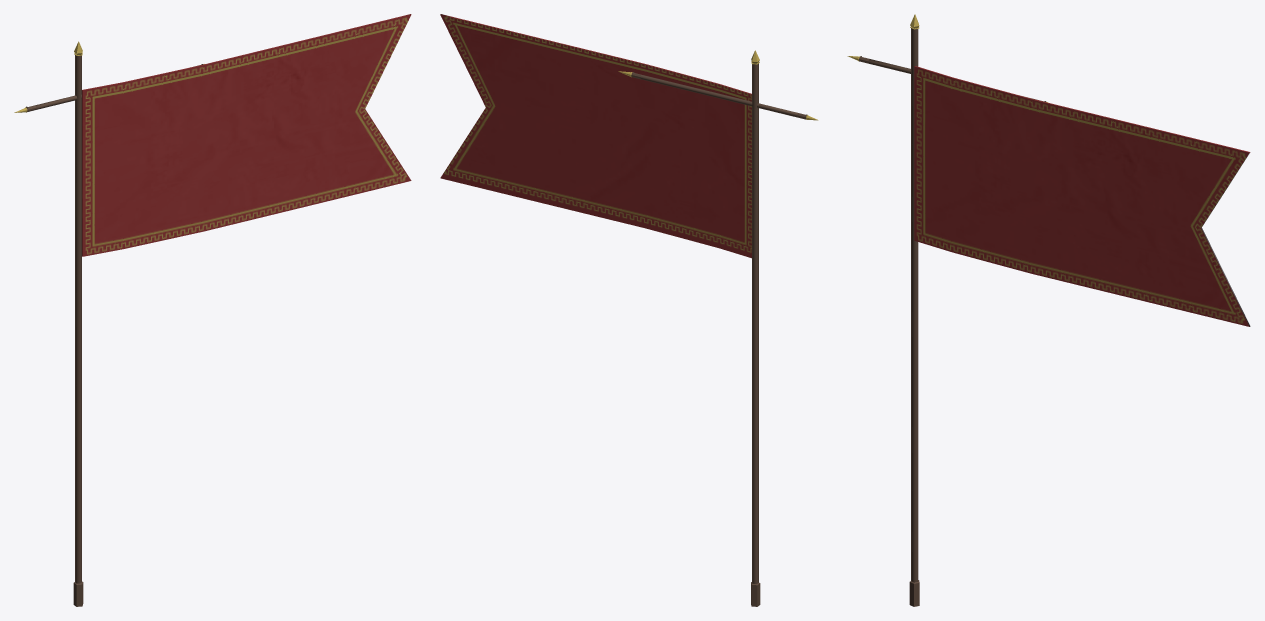
The model's file is Small Flag H.fbx.
3 views of the same model, side by side, from view 1: azimuth 30°, elevation 25°; view 2: azimuth 150°, elevation 25°; view 3: azimuth 330°, elevation 25° (orthographic). The views are drawn at different scales.
Visible parts, largest first — view 1: Flag001, Cylinder019; view 2: Flag001, Cylinder019; view 3: Flag001, Cylinder019.
Part boxes in pixels (bbox=[...]): Flag001: bbox=[14, 14, 411, 256]; Cylinder019: bbox=[73, 41, 83, 606]; Flag001: bbox=[440, 14, 818, 258]; Cylinder019: bbox=[751, 50, 760, 606]; Flag001: bbox=[847, 56, 1250, 326]; Cylinder019: bbox=[909, 14, 919, 606].
Bounding box in the file's own units: 5.9 × 8.13 × 0.2411.
1 material, 1 textured.
